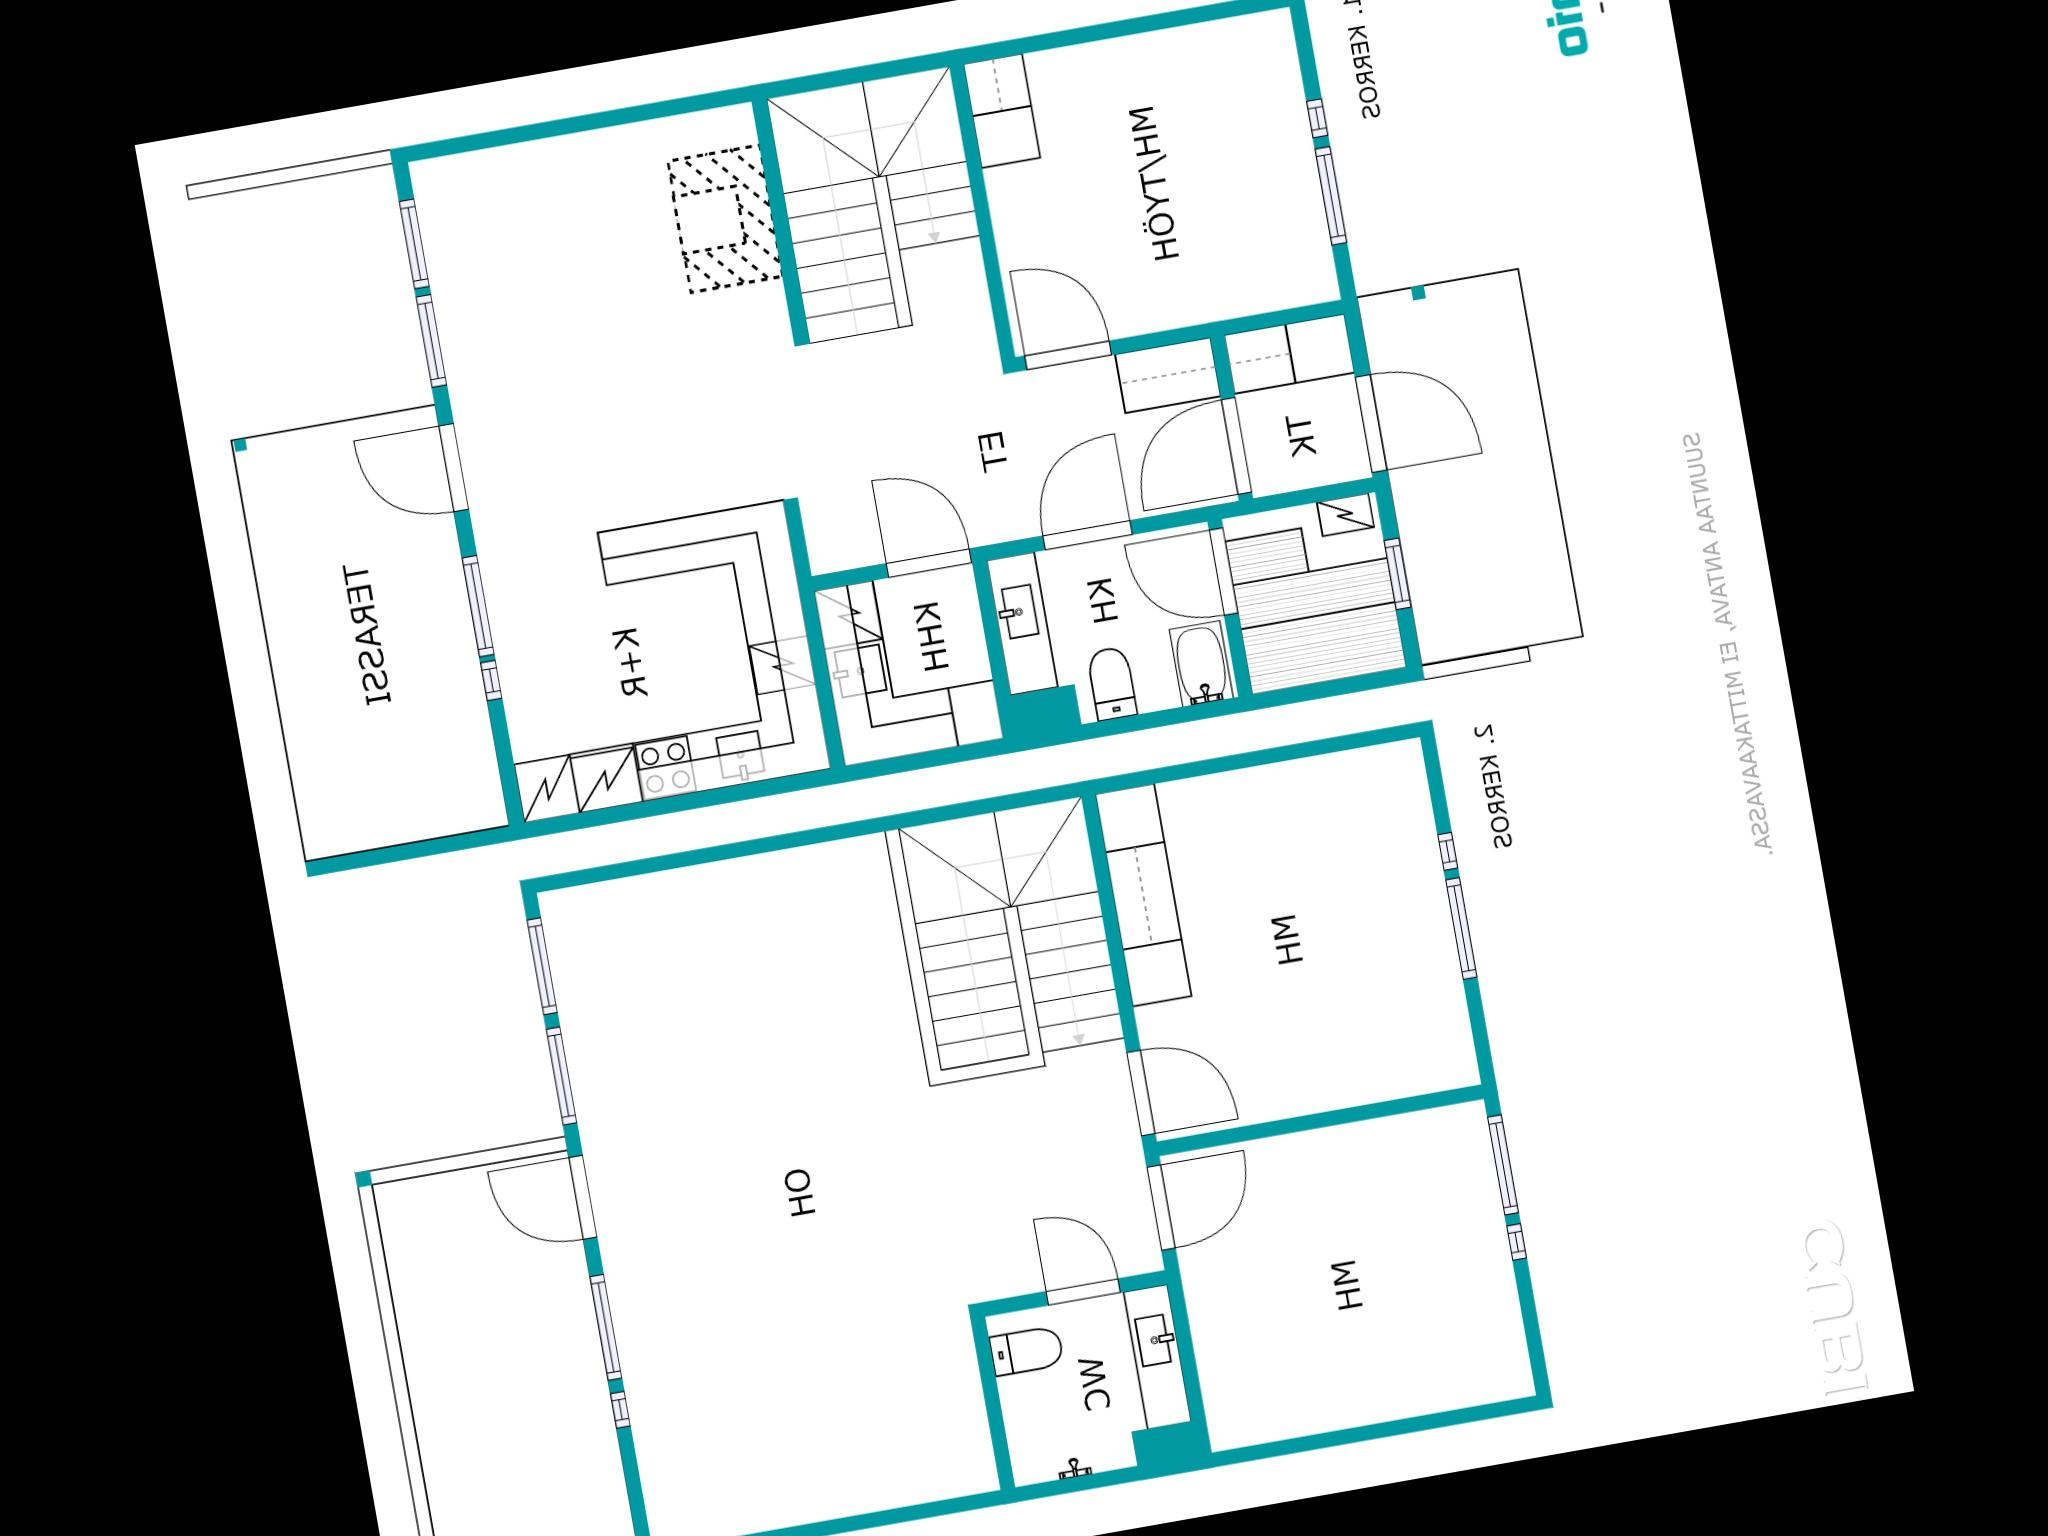door: (1343, 344, 1493, 484), (1121, 384, 1255, 521), (1111, 1026, 1255, 1146), (340, 407, 476, 532), (1134, 1136, 1271, 1258), (1014, 424, 1138, 557), (1116, 520, 1245, 636), (481, 1147, 601, 1268), (998, 250, 1109, 376), (860, 460, 974, 581), (1024, 1197, 1122, 1321)
window: (577, 1255, 640, 1389), (505, 900, 568, 1028), (1471, 1097, 1530, 1231), (1429, 862, 1487, 994), (455, 544, 513, 666), (537, 1005, 590, 1133), (384, 181, 439, 303), (395, 287, 458, 390), (1305, 134, 1356, 257), (1377, 526, 1421, 623), (1297, 81, 1338, 147), (1496, 1210, 1540, 1273), (472, 647, 514, 708), (1426, 818, 1467, 878), (603, 1378, 643, 1436)
